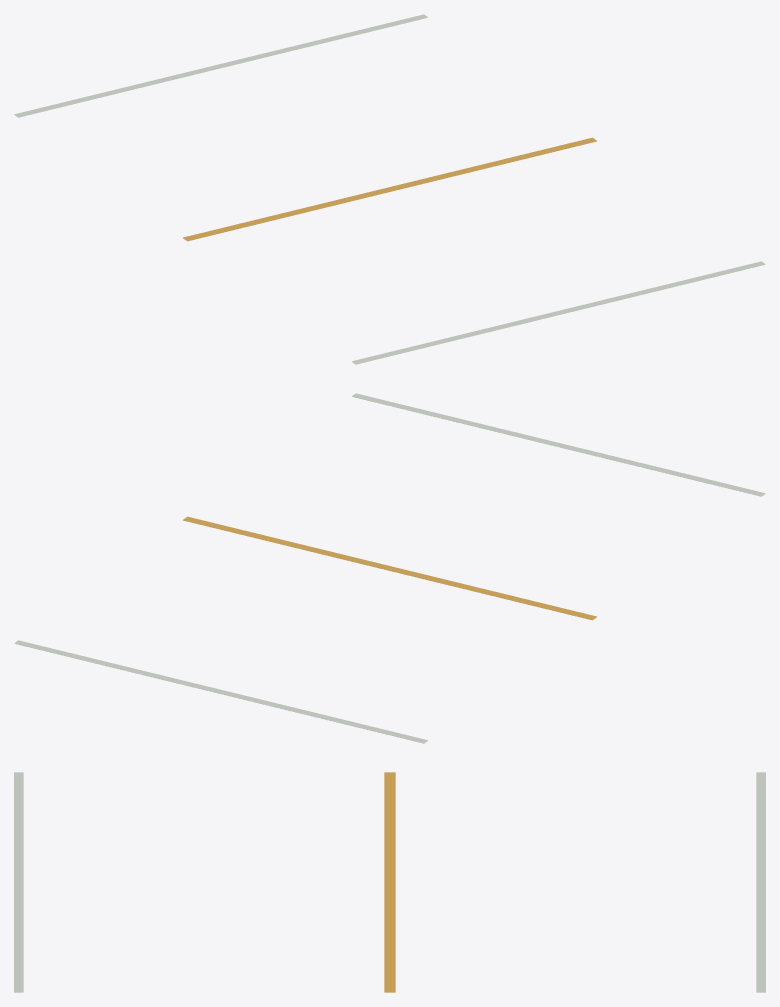
File: RoadPlan_DeckMarking_2L_L4.glb
3 renders of one model, top to bottom at view 1: azimuth 30°, elevation 25°; view 2: azimuth 150°, elevation 25°; view 3: azimuth 270°, elevation 25°, orthographic. The views are drawn at different scales.
Parts seen in each view (by area): view 1: RoadPlan_DeckMarking_2L_L4_Center, RoadPlan_DeckMarking_2L_L4_EdgeRight, RoadPlan_DeckMarking_2L_L4_EdgeLeft; view 2: RoadPlan_DeckMarking_2L_L4_Center, RoadPlan_DeckMarking_2L_L4_EdgeRight, RoadPlan_DeckMarking_2L_L4_EdgeLeft; view 3: RoadPlan_DeckMarking_2L_L4_Center, RoadPlan_DeckMarking_2L_L4_EdgeRight, RoadPlan_DeckMarking_2L_L4_EdgeLeft.
Part boxes in pixels (box(x1,y1,x2,y2)): RoadPlan_DeckMarking_2L_L4_Center: box(183, 137, 596, 241); RoadPlan_DeckMarking_2L_L4_EdgeRight: box(352, 261, 765, 364); RoadPlan_DeckMarking_2L_L4_EdgeLeft: box(14, 14, 427, 117); RoadPlan_DeckMarking_2L_L4_Center: box(183, 516, 596, 620); RoadPlan_DeckMarking_2L_L4_EdgeRight: box(352, 393, 765, 496); RoadPlan_DeckMarking_2L_L4_EdgeLeft: box(14, 640, 427, 743); RoadPlan_DeckMarking_2L_L4_Center: box(384, 772, 395, 992); RoadPlan_DeckMarking_2L_L4_EdgeRight: box(14, 772, 23, 992); RoadPlan_DeckMarking_2L_L4_EdgeLeft: box(756, 772, 765, 992).
Bounding box in the file's own units: 4 × 0.0007 × 5.78.
